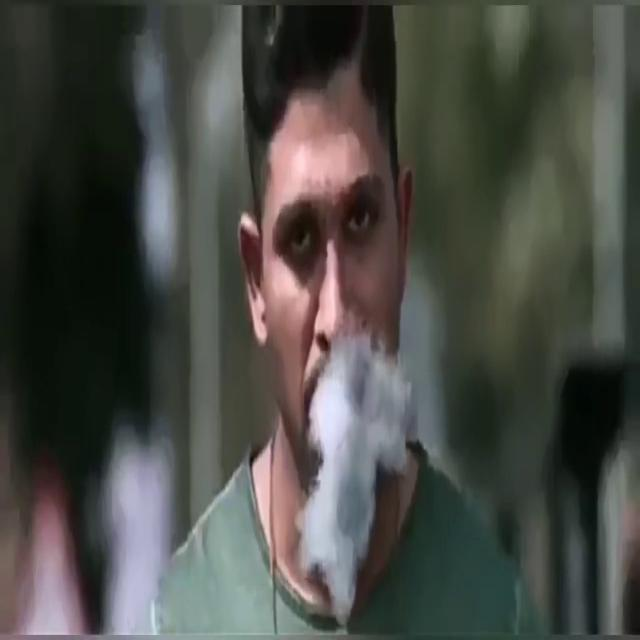smoking: (232, 38, 438, 588)
